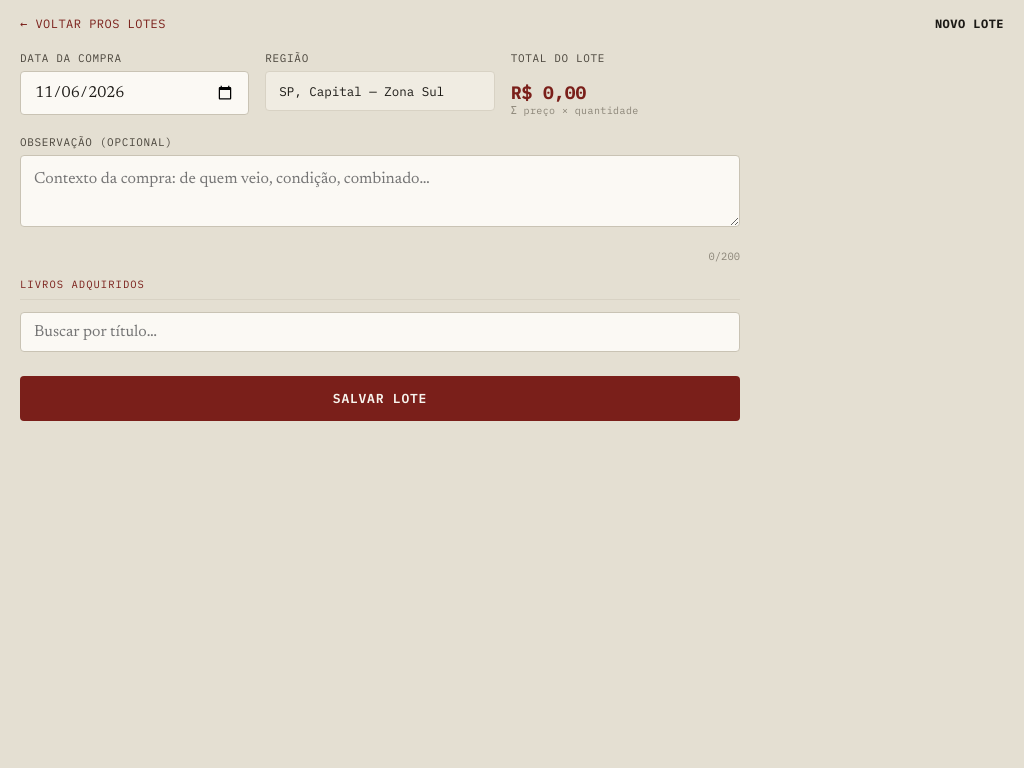
Backoffice — Novo lote › apagar a quantidade não remove a linha; sair do campo vazio assume 0
Click the field with placeholder "Buscar por título…" at (380, 332), box x1=20 y1=312 x2=740 y2=352
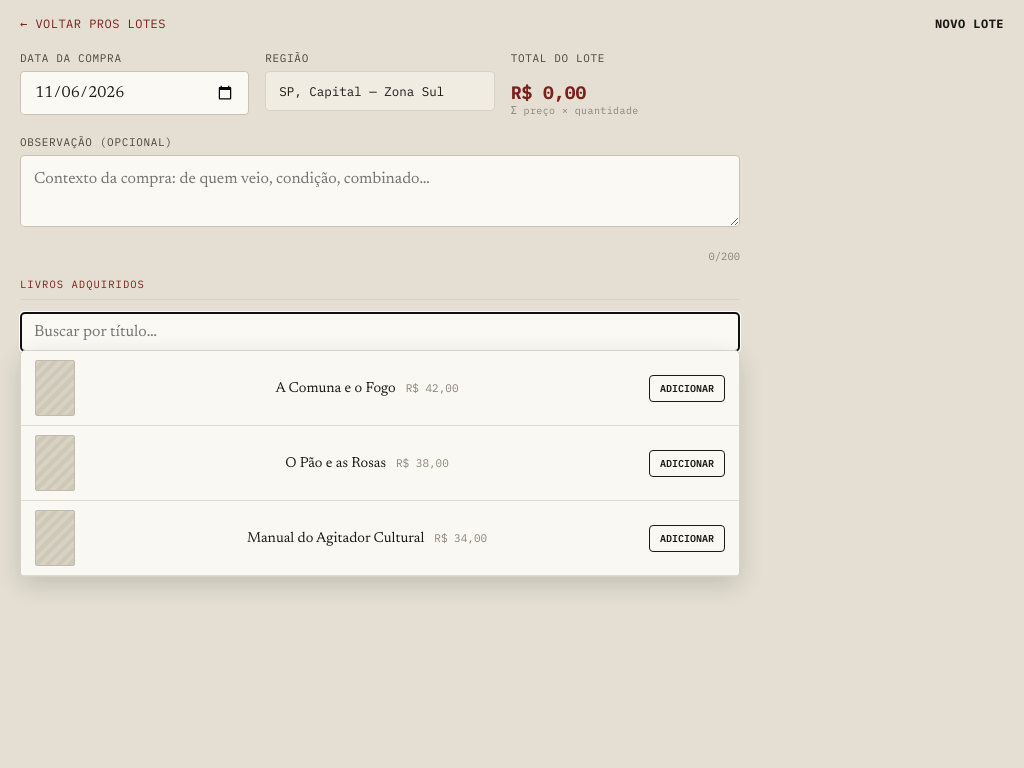
Click the button "Adicionar" in the row of "R$ 42,00" at (687, 388), box x1=649 y1=374 x2=725 y2=402
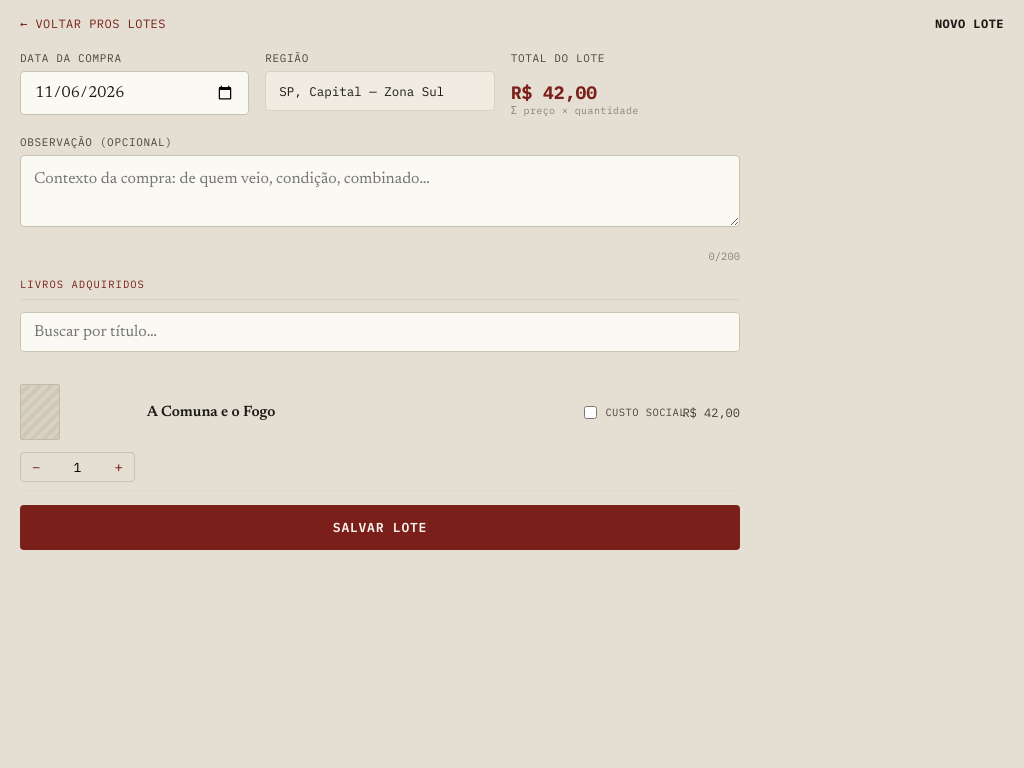
Clear the field named "quantidade de a comuna e o fogo" at (77, 467), box x1=51 y1=454 x2=103 y2=480
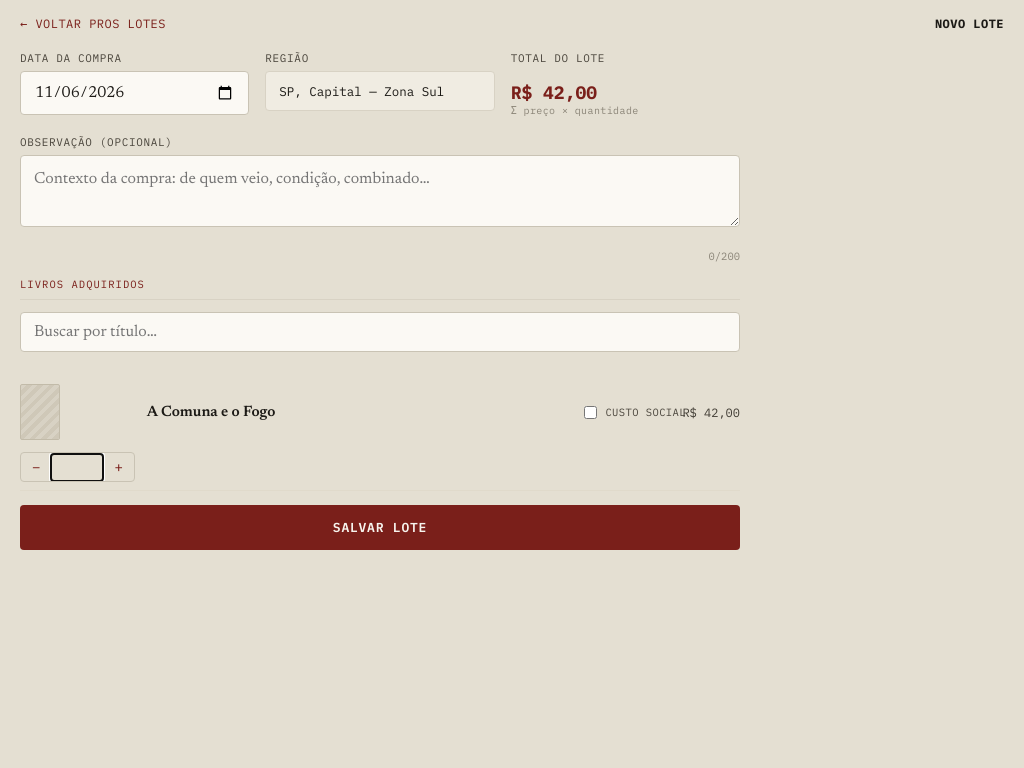
Result: the text "A Comuna e o Fogo" is shown at x1=147 y1=404 x2=275 y2=420
Type "10" into the field named "quantidade de a comuna e o fogo" at (77, 467), box x1=51 y1=454 x2=103 y2=480
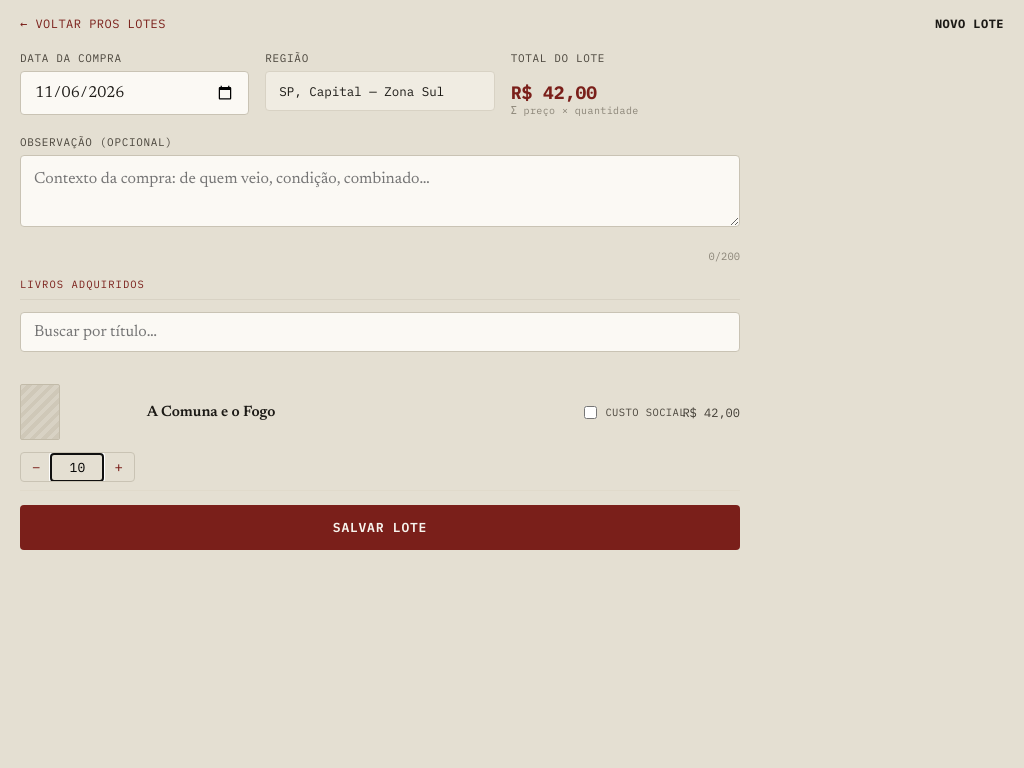
Clear the field named "quantidade de a comuna e o fogo" at (77, 467), box x1=51 y1=454 x2=103 y2=480
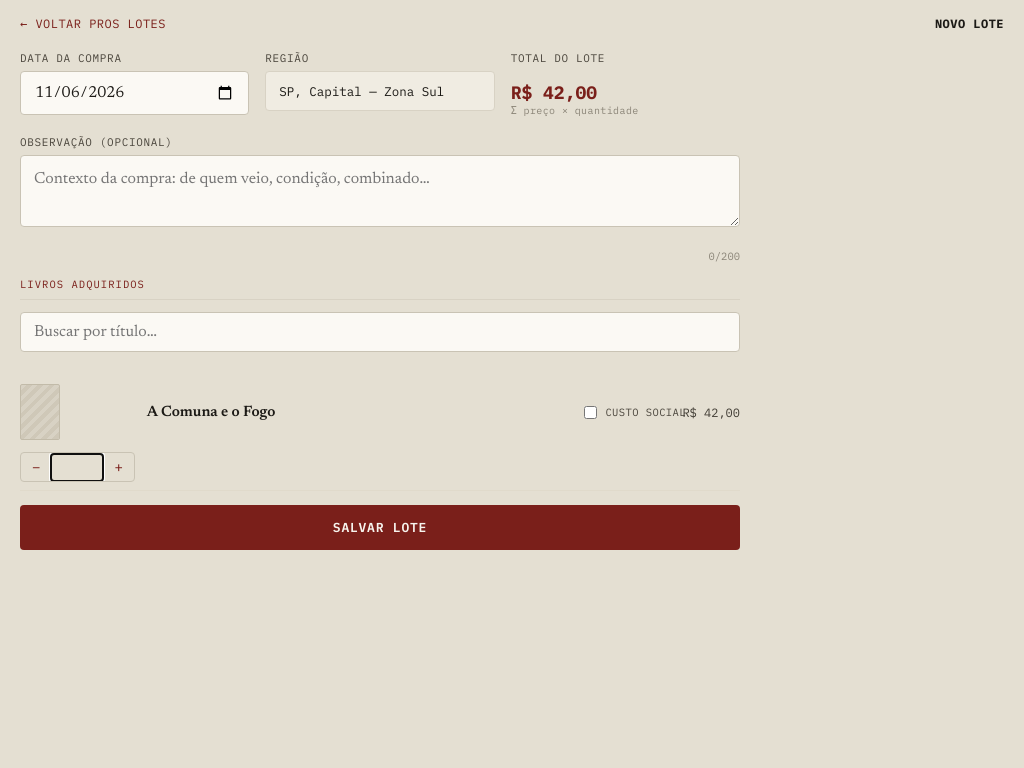
Press Tab
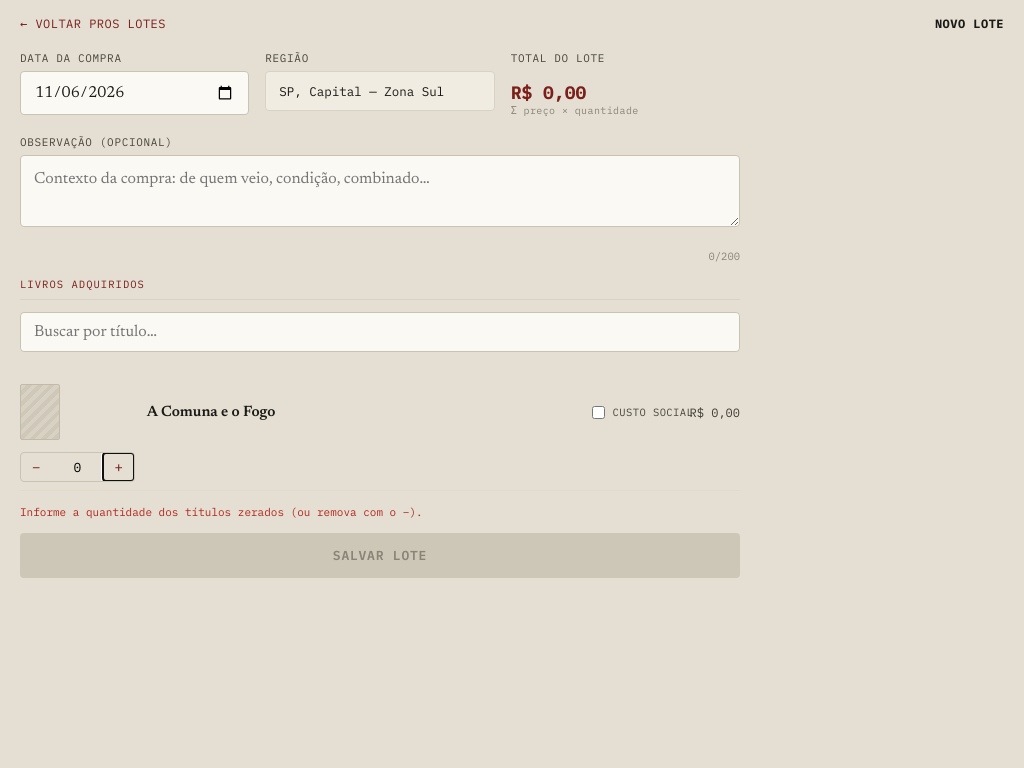
Result: the field named "quantidade de a comuna e o fogo" holds "0" at x1=51 y1=454 x2=103 y2=480
